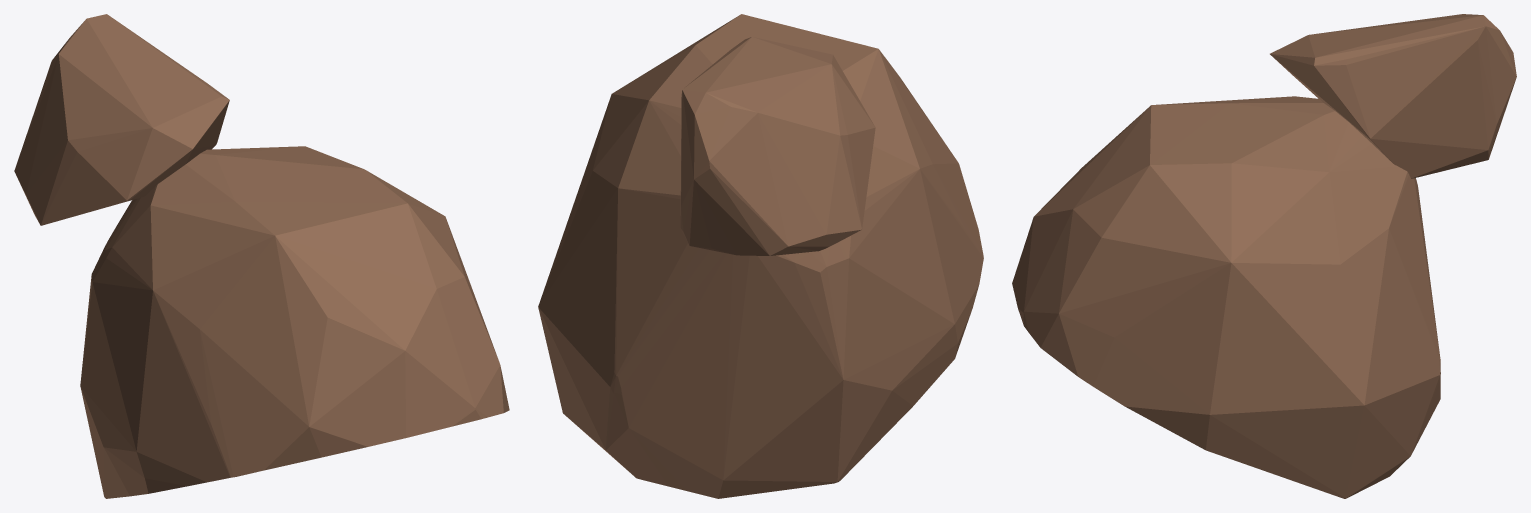
Rendered from Hair_bun_LOD1.glb.
3 views of the same model, side by side, from view 1: azimuth 30°, elevation 25°; view 2: azimuth 150°, elevation 25°; view 3: azimuth 270°, elevation 25° (orthographic). The views are drawn at different scales.
Parts seen in each view (by area): view 1: Hair_bun_LOD1; view 2: Hair_bun_LOD1; view 3: Hair_bun_LOD1.
Part boxes in pixels (left/top/right/bottom): Hair_bun_LOD1: left=14, top=14, right=509, bottom=498; Hair_bun_LOD1: left=538, top=14, right=983, bottom=498; Hair_bun_LOD1: left=1012, top=14, right=1516, bottom=498.
Bounding box in the file's own units: 0.2133 × 0.2554 × 0.2862.
